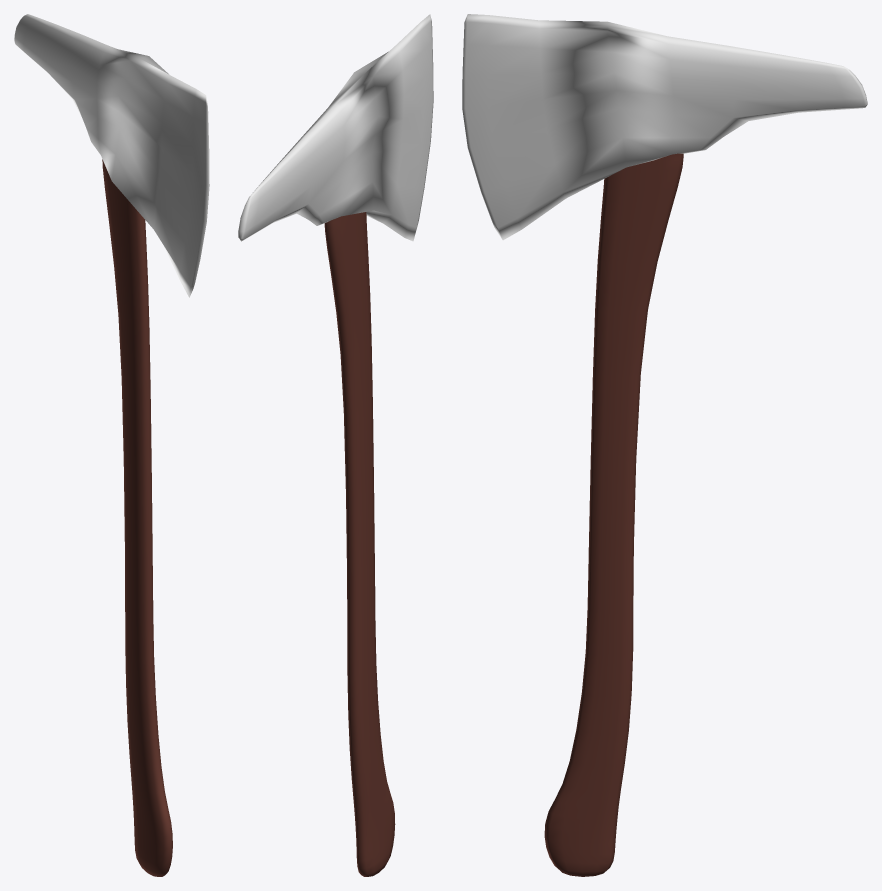
The model's file is machado.fbx.
3 renders of one model, left to right at view 1: azimuth 30°, elevation 25°; view 2: azimuth 150°, elevation 25°; view 3: azimuth 270°, elevation 25°, orthographic. The views are drawn at different scales.
Parts seen in each view (by area): view 1: Machado; view 2: Machado; view 3: Machado.
Part boxes in pixels (left/top/right/bottom): Machado: left=14, top=14, right=209, bottom=876; Machado: left=238, top=14, right=433, bottom=876; Machado: left=462, top=14, right=867, bottom=876.
Bounding box in the file's own units: 4.08 × 84.02 × 35.8.
